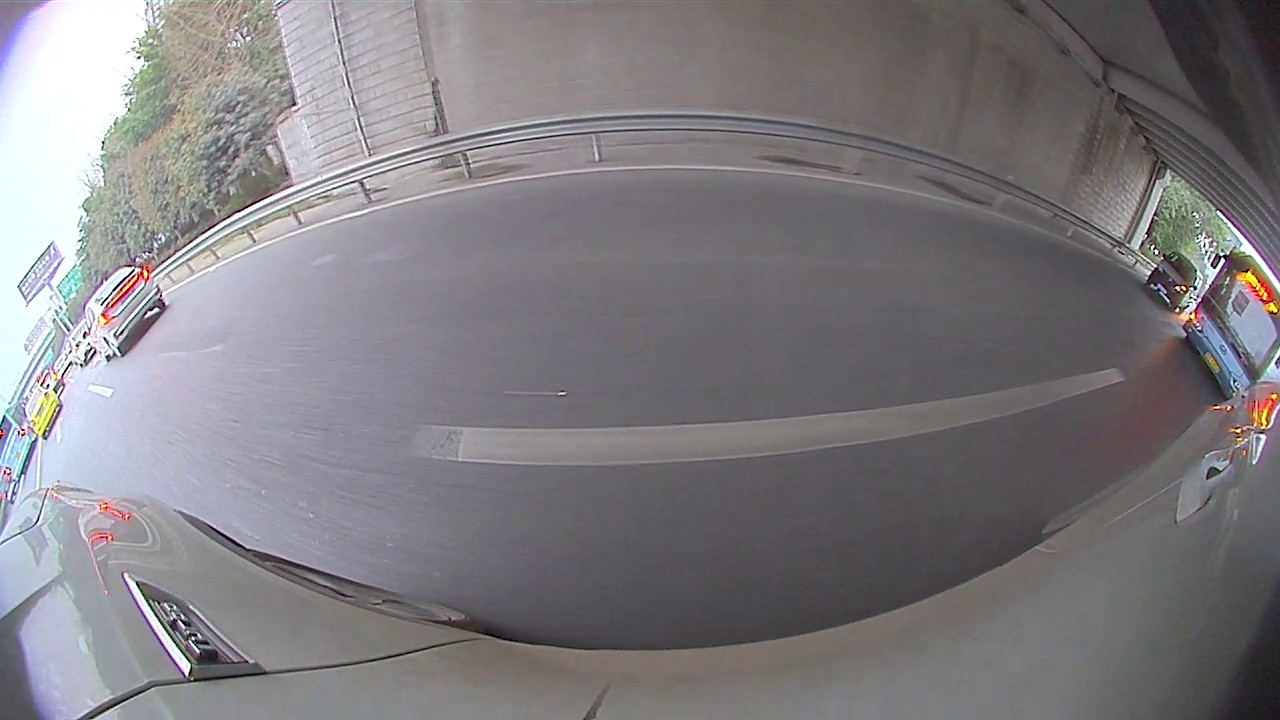bus: (1179, 249, 1279, 403)
car: (81, 263, 170, 367), (1141, 253, 1206, 313), (17, 384, 65, 439)
rear: (104, 340, 125, 359)
